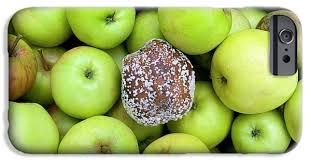apple: (219, 29, 302, 102), (52, 47, 115, 111), (174, 83, 235, 138), (66, 116, 138, 152), (161, 8, 225, 48), (232, 109, 290, 151), (8, 103, 60, 149), (73, 12, 132, 49), (19, 12, 66, 44), (125, 15, 172, 45), (149, 131, 208, 150)
damaged_apple: (118, 42, 204, 127)
